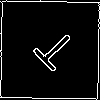T: (25, 25, 80, 79)
